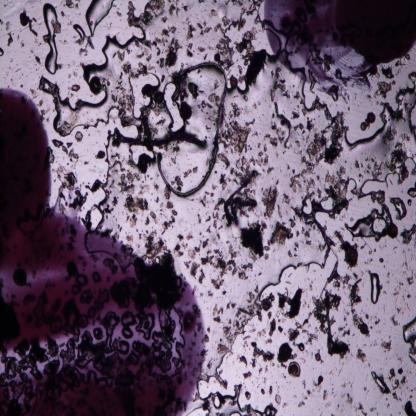Air bubble: (37, 32, 148, 139), (189, 383, 263, 416), (344, 202, 392, 243), (162, 79, 186, 132), (42, 2, 58, 75), (85, 0, 115, 37), (270, 66, 291, 100), (402, 316, 416, 354), (369, 270, 381, 306), (391, 195, 406, 220), (72, 24, 87, 43), (303, 195, 315, 215), (264, 404, 279, 416), (406, 182, 416, 199), (0, 48, 5, 58)
Background material: (311, 286, 349, 358), (308, 110, 348, 161), (202, 246, 250, 288), (224, 294, 260, 343), (240, 220, 270, 261), (344, 272, 364, 330), (111, 82, 136, 128), (223, 120, 252, 156), (242, 46, 266, 85), (290, 158, 320, 189), (324, 166, 347, 204), (260, 179, 280, 222), (142, 226, 165, 263), (277, 287, 302, 318), (134, 39, 161, 65), (236, 30, 258, 61), (160, 200, 178, 236), (249, 340, 276, 363), (386, 143, 408, 171), (216, 38, 235, 70), (60, 105, 80, 134), (234, 152, 270, 168), (369, 372, 392, 397), (56, 166, 77, 193), (379, 122, 401, 147), (272, 221, 293, 247), (148, 0, 169, 26), (289, 322, 306, 352), (264, 311, 285, 335), (211, 204, 225, 240), (124, 195, 149, 214), (125, 0, 141, 29), (120, 172, 140, 194), (336, 229, 352, 253), (268, 124, 284, 148), (366, 156, 382, 180), (72, 190, 89, 212), (183, 260, 201, 280), (375, 79, 392, 99), (396, 166, 413, 185), (291, 206, 311, 222), (62, 141, 77, 162), (160, 26, 177, 44), (214, 17, 230, 35), (204, 91, 220, 109), (187, 240, 201, 260), (402, 224, 416, 244), (211, 303, 224, 324), (130, 61, 148, 76), (28, 15, 40, 37), (86, 178, 102, 194), (196, 19, 211, 36), (355, 345, 368, 364), (227, 101, 242, 117), (299, 388, 311, 408), (388, 366, 406, 379), (260, 294, 273, 312), (295, 224, 310, 239), (201, 186, 213, 204), (218, 152, 230, 170), (311, 370, 323, 388), (288, 239, 299, 258), (174, 173, 184, 193), (173, 243, 184, 260), (171, 150, 182, 167), (216, 343, 233, 354), (178, 235, 192, 248), (126, 214, 139, 228), (341, 390, 354, 404), (185, 24, 195, 42), (28, 85, 40, 100), (307, 329, 317, 347), (37, 99, 47, 116), (393, 109, 406, 122), (293, 122, 306, 135), (137, 184, 151, 196), (184, 164, 198, 176), (381, 339, 393, 353), (169, 3, 180, 18), (186, 42, 195, 60), (217, 174, 226, 192), (394, 376, 406, 389), (383, 67, 395, 80), (112, 50, 126, 61), (356, 401, 366, 416), (238, 352, 248, 367), (400, 129, 412, 141), (112, 160, 125, 171), (155, 115, 166, 128), (280, 189, 291, 202), (394, 389, 404, 403), (394, 282, 404, 296), (149, 212, 159, 226), (210, 77, 220, 91), (5, 32, 14, 47), (306, 117, 315, 132), (389, 314, 400, 326), (109, 151, 121, 162), (352, 157, 364, 168), (77, 45, 88, 57), (294, 92, 305, 104), (209, 10, 220, 22), (206, 116, 216, 129), (52, 139, 65, 149), (171, 141, 181, 154), (340, 380, 356, 388), (198, 269, 206, 284), (4, 17, 12, 32), (124, 232, 134, 244), (404, 272, 414, 284), (228, 0, 243, 8), (226, 235, 239, 244), (291, 109, 300, 122), (330, 386, 338, 400), (274, 390, 282, 404), (103, 205, 113, 216), (370, 314, 381, 324), (122, 63, 132, 74), (64, 0, 75, 10), (196, 44, 206, 54), (254, 365, 264, 375), (66, 68, 77, 77), (314, 352, 323, 363), (164, 186, 171, 200), (206, 358, 214, 370), (75, 130, 83, 142), (201, 237, 209, 249), (86, 40, 94, 52), (112, 195, 119, 208), (96, 150, 106, 159), (34, 53, 41, 65), (322, 389, 329, 401), (258, 385, 266, 395), (376, 254, 386, 262), (268, 384, 275, 395), (252, 282, 258, 294), (243, 370, 251, 379), (289, 217, 296, 227), (182, 2, 189, 12), (367, 247, 377, 254), (365, 93, 371, 104), (220, 288, 228, 296), (252, 102, 260, 110), (240, 95, 248, 103), (266, 166, 274, 174), (72, 84, 80, 92), (58, 62, 66, 70), (66, 18, 74, 26), (370, 405, 379, 412), (295, 138, 301, 148), (262, 143, 268, 153), (360, 242, 366, 252), (245, 389, 250, 401), (152, 182, 158, 192), (263, 364, 270, 372), (207, 290, 214, 298), (143, 173, 150, 181), (33, 38, 40, 46), (206, 324, 210, 338), (285, 161, 291, 170), (160, 74, 166, 83), (206, 224, 212, 233), (404, 292, 413, 298), (145, 216, 150, 226), (255, 141, 262, 148), (300, 154, 306, 162), (301, 382, 307, 390), (160, 16, 168, 22), (364, 314, 370, 322), (20, 40, 26, 48), (83, 158, 89, 166), (262, 134, 268, 142), (25, 0, 34, 5), (213, 0, 218, 9), (197, 213, 201, 224), (62, 37, 68, 44), (357, 173, 365, 178), (324, 402, 332, 407), (8, 57, 14, 63), (284, 402, 290, 408), (3, 2, 9, 8), (61, 11, 66, 18), (206, 214, 210, 222), (250, 132, 258, 136), (386, 271, 390, 279), (408, 200, 413, 206), (16, 67, 22, 72), (156, 196, 160, 203), (410, 393, 414, 400), (0, 19, 4, 26), (369, 324, 373, 330), (198, 0, 204, 4), (259, 272, 263, 277), (219, 370, 224, 374), (398, 307, 402, 312), (20, 84, 24, 89), (330, 412, 334, 416), (17, 34, 19, 42), (87, 133, 90, 137), (388, 405, 390, 410), (34, 70, 38, 72)
Cellulose filter fibre: (310, 199, 337, 317), (110, 128, 207, 150), (223, 170, 260, 224), (273, 102, 292, 150)
Diatom: (278, 342, 293, 361), (287, 360, 301, 378), (345, 247, 359, 263), (90, 76, 102, 94), (181, 104, 193, 121), (387, 222, 398, 240), (166, 50, 178, 66), (404, 400, 416, 414), (143, 83, 153, 99), (139, 156, 149, 172), (368, 110, 378, 125), (155, 90, 165, 104), (20, 12, 29, 27), (359, 322, 369, 335), (407, 353, 416, 365), (360, 120, 368, 132), (230, 78, 238, 88)
Microfibre: (155, 59, 230, 197)
Pen: (0, 86, 205, 414), (263, 1, 416, 90)
